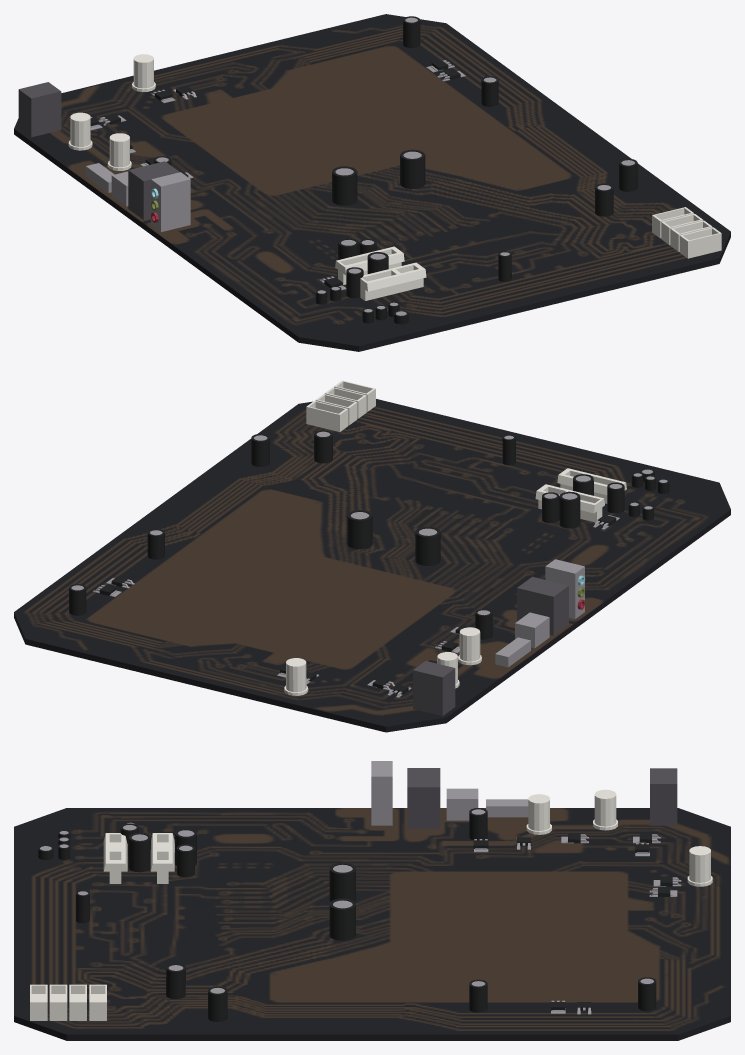
Rendered from Calculator circuit.fbx.
3 views of the same model, one above another, from view 1: azimuth 30°, elevation 25°; view 2: azimuth 150°, elevation 25°; view 3: azimuth 270°, elevation 25° (orthographic). The views are drawn at different scales.
Parts seen in each view (by area): view 1: calculator_circuit; view 2: calculator_circuit; view 3: calculator_circuit.
Part boxes in pixels (x1,y1,x2,y2): calculator_circuit: (14,14,730,351); calculator_circuit: (14,380,730,732); calculator_circuit: (14,761,730,1040).
Size of the model in its own units: 1.37 by 0.1584 by 1.84.
